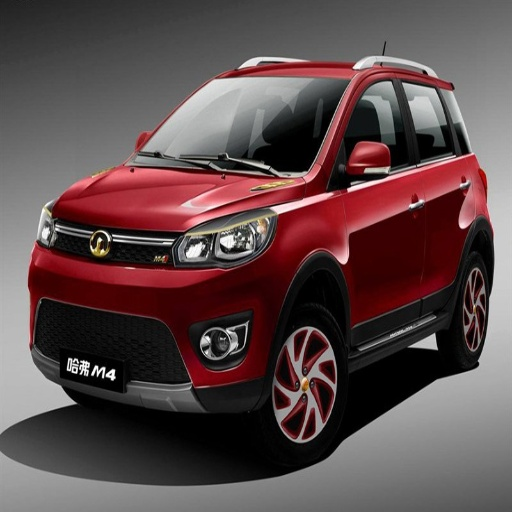front_bumper: (30, 198, 294, 408)
front_glass: (129, 75, 349, 174)
front_left_door: (337, 69, 425, 337)
